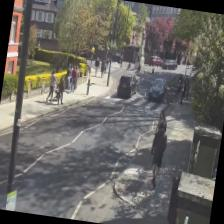person: (146, 121, 168, 186), (45, 70, 57, 104), (55, 74, 66, 106)
